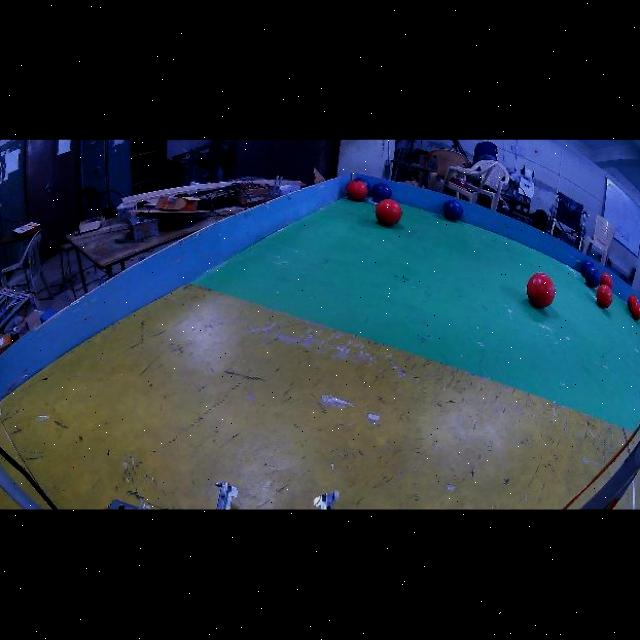P: (443, 199, 463, 220), (371, 182, 391, 202), (584, 265, 600, 288), (354, 176, 371, 191), (580, 258, 594, 275)
R: (526, 272, 556, 307), (375, 198, 402, 225), (346, 180, 368, 200), (596, 284, 612, 308), (630, 301, 640, 320), (600, 272, 612, 287), (628, 294, 637, 309)
